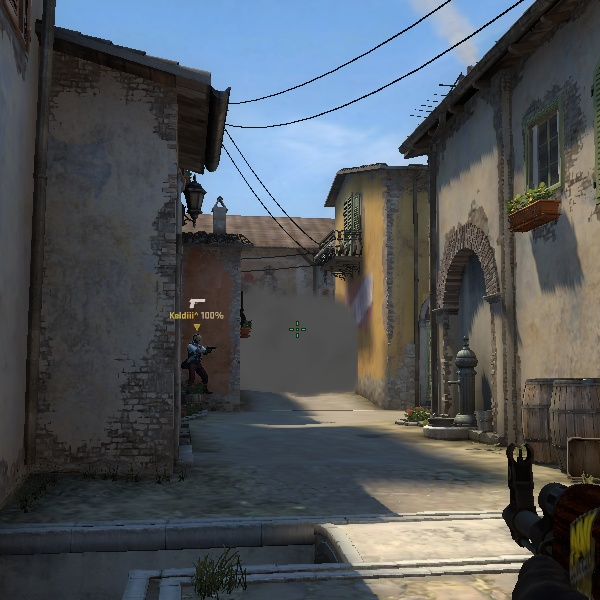t_body: (185, 334, 214, 395)
t_head: (192, 335, 203, 346)
